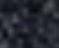seven: (33, 19, 39, 27), (26, 20, 32, 27)
zero: (18, 20, 24, 28)
